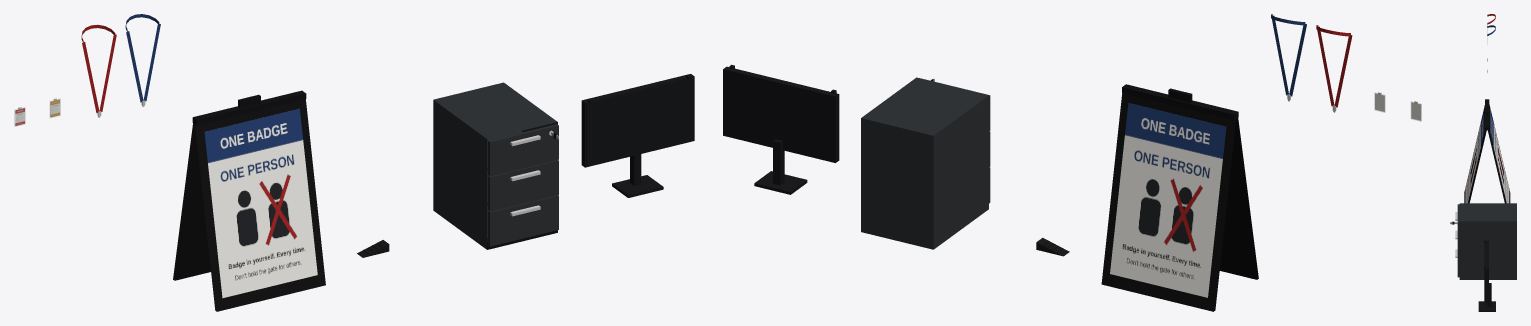
Rendered from harbor_security_props.glb.
3 renders of one model, left to right at view 1: azimuth 30°, elevation 25°; view 2: azimuth 150°, elevation 25°; view 3: azimuth 270°, elevation 25°, orthographic. The views are drawn at different scales.
Visible parts, largest first — view 1: Sign_OneBadgeOnePerson_AFrame_FaceF, Drawer_Pedestal_Lockable, Sign_OneBadgeOnePerson_AFrame, Monitor_Privacy_Filter_Panel, Drawer_Pedestal_Drawer_3, Drawer_Pedestal_Drawer_1, Drawer_Pedestal_Drawer_2, Monitor_Privacy_Filter, Lanyard_Visitor_Red, Lanyard_Staff_Navy; view 2: Drawer_Pedestal_Lockable, Sign_OneBadgeOnePerson_AFrame_FaceB, Sign_OneBadgeOnePerson_AFrame, Monitor_Privacy_Filter, Lanyard_Visitor_Red, Lanyard_Staff_Navy; view 3: Drawer_Pedestal_Lockable, Sign_OneBadgeOnePerson_AFrame, Sign_OneBadgeOnePerson_AFrame_FaceF, Sign_OneBadgeOnePerson_AFrame_FaceB, Monitor_Privacy_Filter, Drawer_Pedestal_Drawer_3, Drawer_Pedestal_Drawer_2, Drawer_Pedestal_Drawer_1, Monitor_Privacy_Filter_Panel.
Boxes of the visible parts, x1=… form: Sign_OneBadgeOnePerson_AFrame_FaceF: x1=204, y1=108, x2=317, y2=298; Drawer_Pedestal_Lockable: x1=433, y1=82, x2=557, y2=249; Sign_OneBadgeOnePerson_AFrame: x1=173, y1=90, x2=325, y2=311; Monitor_Privacy_Filter_Panel: x1=586, y1=74, x2=694, y2=166; Drawer_Pedestal_Drawer_3: x1=487, y1=124, x2=558, y2=176; Drawer_Pedestal_Drawer_1: x1=487, y1=195, x2=558, y2=246; Drawer_Pedestal_Drawer_2: x1=487, y1=160, x2=558, y2=211; Monitor_Privacy_Filter: x1=581, y1=74, x2=694, y2=197; Lanyard_Visitor_Red: x1=81, y1=24, x2=116, y2=117; Lanyard_Staff_Navy: x1=125, y1=14, x2=160, y2=106; Drawer_Pedestal_Lockable: x1=861, y1=77, x2=988, y2=249; Sign_OneBadgeOnePerson_AFrame_FaceB: x1=1110, y1=103, x2=1226, y2=297; Sign_OneBadgeOnePerson_AFrame: x1=1101, y1=84, x2=1258, y2=311; Monitor_Privacy_Filter: x1=723, y1=66, x2=839, y2=194; Lanyard_Visitor_Red: x1=1316, y1=25, x2=1352, y2=112; Lanyard_Staff_Navy: x1=1271, y1=14, x2=1306, y2=101; Drawer_Pedestal_Lockable: x1=1459, y1=203, x2=1516, y2=279; Sign_OneBadgeOnePerson_AFrame: x1=1464, y1=99, x2=1510, y2=203; Sign_OneBadgeOnePerson_AFrame_FaceF: x1=1465, y1=109, x2=1484, y2=203; Sign_OneBadgeOnePerson_AFrame_FaceB: x1=1490, y1=108, x2=1509, y2=203; Monitor_Privacy_Filter: x1=1478, y1=240, x2=1495, y2=311; Drawer_Pedestal_Drawer_3: x1=1455, y1=204, x2=1459, y2=240; Drawer_Pedestal_Drawer_2: x1=1455, y1=230, x2=1459, y2=258; Drawer_Pedestal_Drawer_1: x1=1455, y1=249, x2=1459, y2=277; Monitor_Privacy_Filter_Panel: x1=1484, y1=240, x2=1486, y2=302.
Bounding box in the file's own units: 3.84 × 1.56 × 0.6199.
15 materials, 4 textured.
